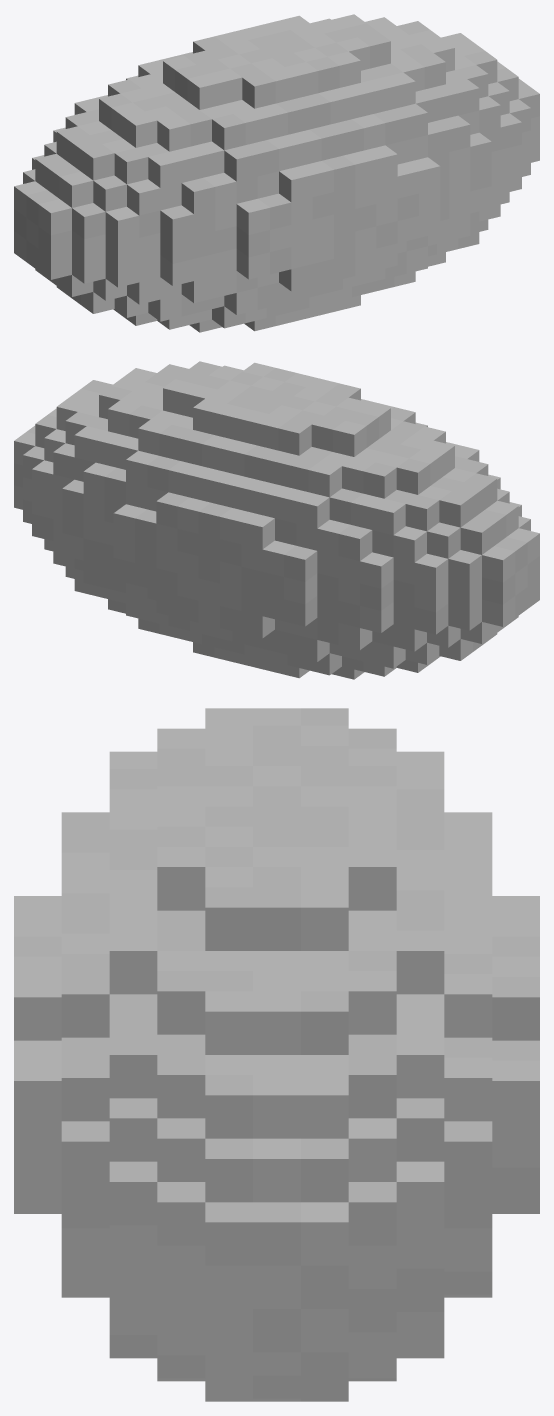
The model's file is balloon.obj.
The picture shows the model from 3 angles, top to bottom: view 1: azimuth 30°, elevation 25°; view 2: azimuth 150°, elevation 25°; view 3: azimuth 270°, elevation 25°; orthographic projection. The views are drawn at different scales.
Size of the model in its own units: 2.3 by 1.1 by 1.1.
1 material, 1 textured.
